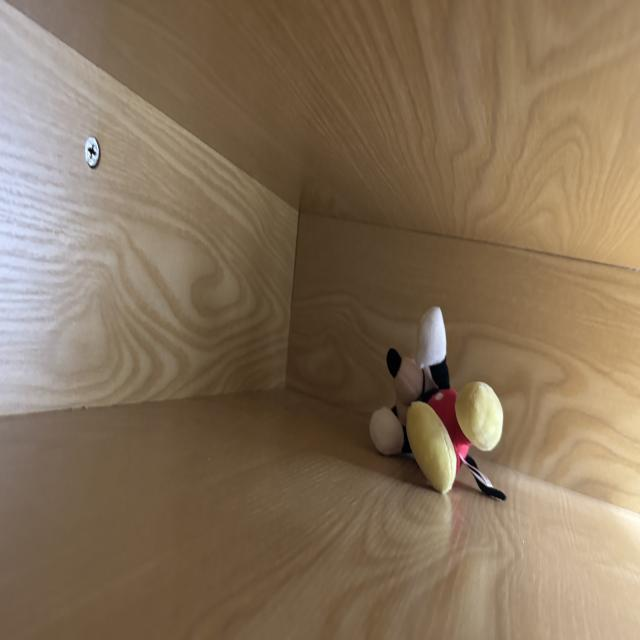mickey: (370, 307, 504, 499)
